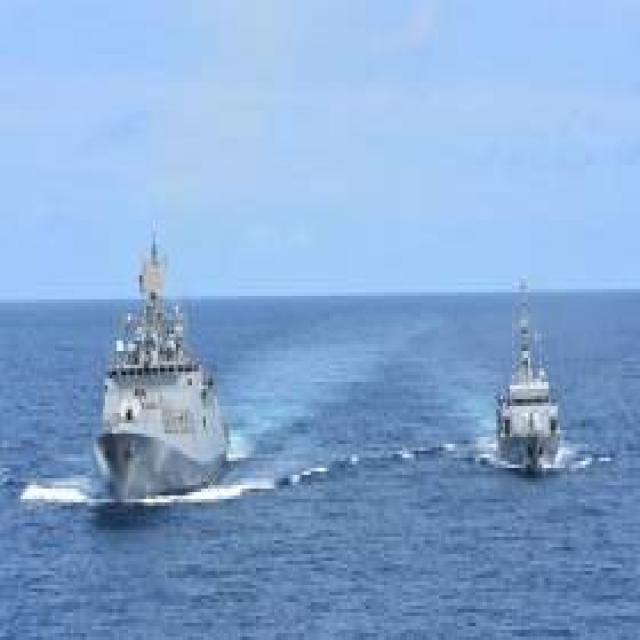navalvessels: (80, 241, 248, 507), (473, 278, 559, 471)
